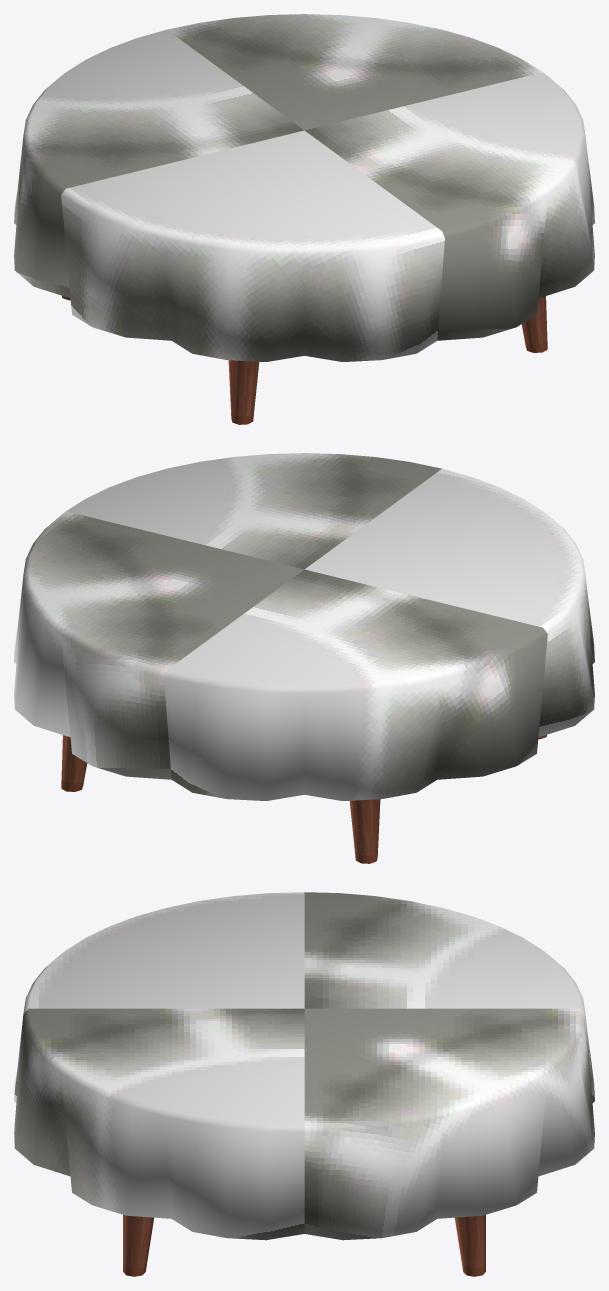
The model's file is rmk_scd_tableL uv fix.dae.
3 views of the same model, one above another, from view 1: azimuth 30°, elevation 25°; view 2: azimuth 150°, elevation 25°; view 3: azimuth 270°, elevation 25° (orthographic).
Parts seen in each view (by area): view 1: vsn_mesh_1_.1, vsn_mesh_0_; view 2: vsn_mesh_1_.1, vsn_mesh_0_; view 3: vsn_mesh_1_.1, vsn_mesh_0_.
Part boxes in pixels (<box>): vsn_mesh_1_.1: <box>14,14,594,361</box>; vsn_mesh_0_: <box>62,296,547,424</box>; vsn_mesh_1_.1: <box>14,453,594,800</box>; vsn_mesh_0_: <box>61,735,546,863</box>; vsn_mesh_1_.1: <box>14,892,594,1240</box>; vsn_mesh_0_: <box>123,1215,485,1276</box>.
Bounding box in the file's own units: 59.02 × 21.48 × 59.02.
3 materials, 3 textured.
